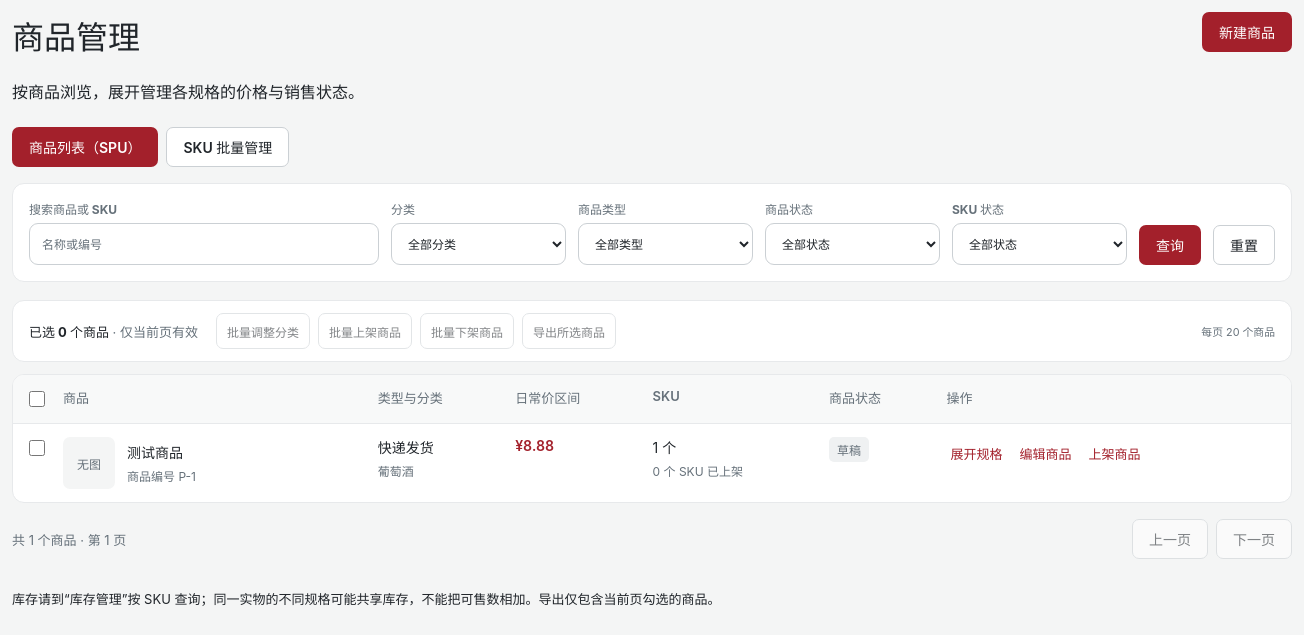
Test: focused product workspace › keeps SPU selection scoped to product actions and SKU batches in their own view
Step 1. Click the checkbox named "选择商品 P-1" → point(37, 448), box [29,440,45,456]
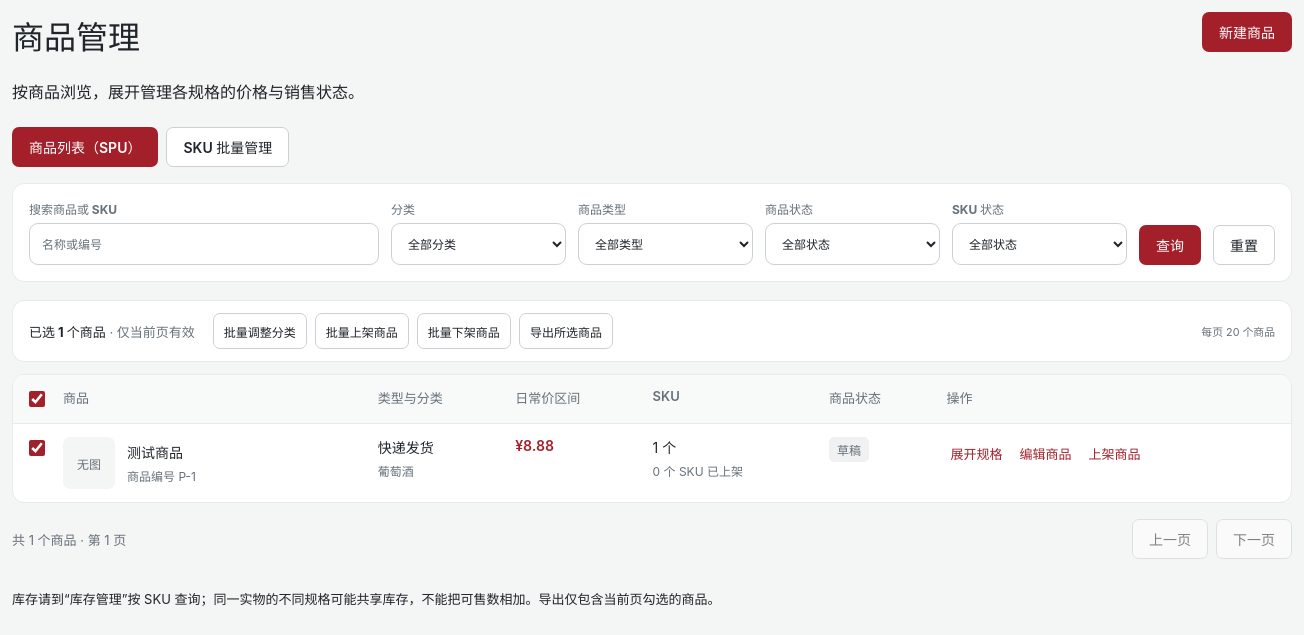
expect the text "已选 1 个商品" is shown: met, box [29,324,106,340]
expect the button "导出所选商品" is enabled: met, box [519,313,613,349]
Step 2. Click the button "SKU 批量管理" → point(228, 147), box [166,127,289,167]
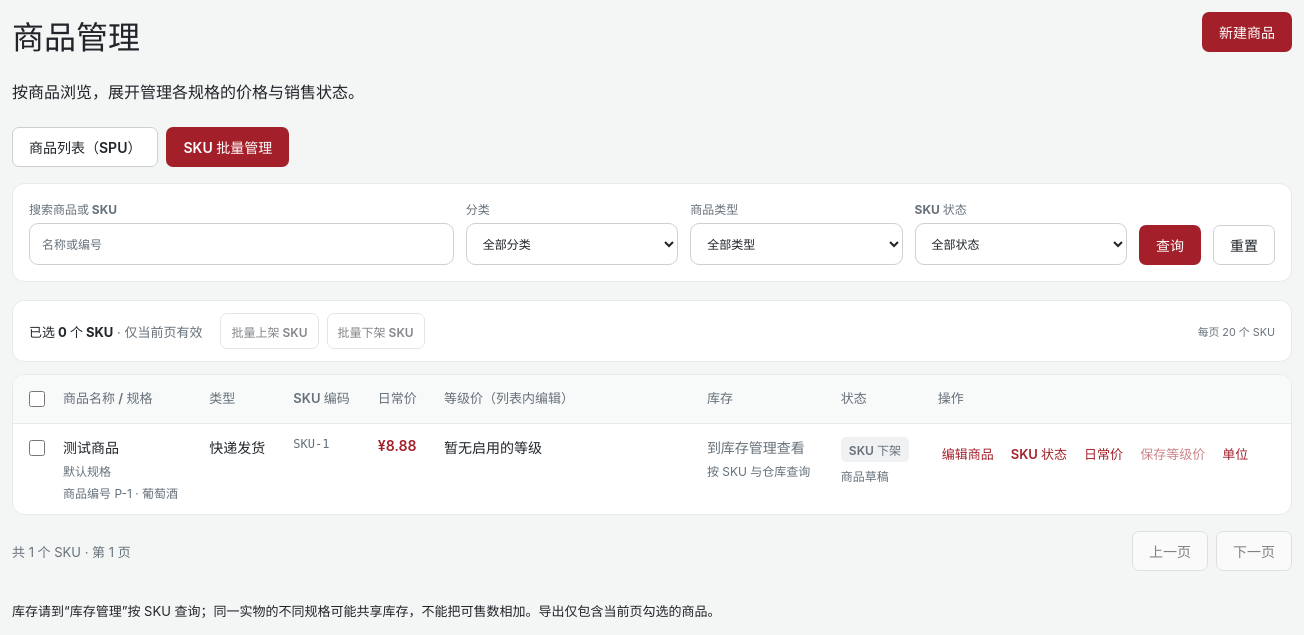
expect the text "已选 0 个 SKU" is shown: met, box [29,324,113,340]
